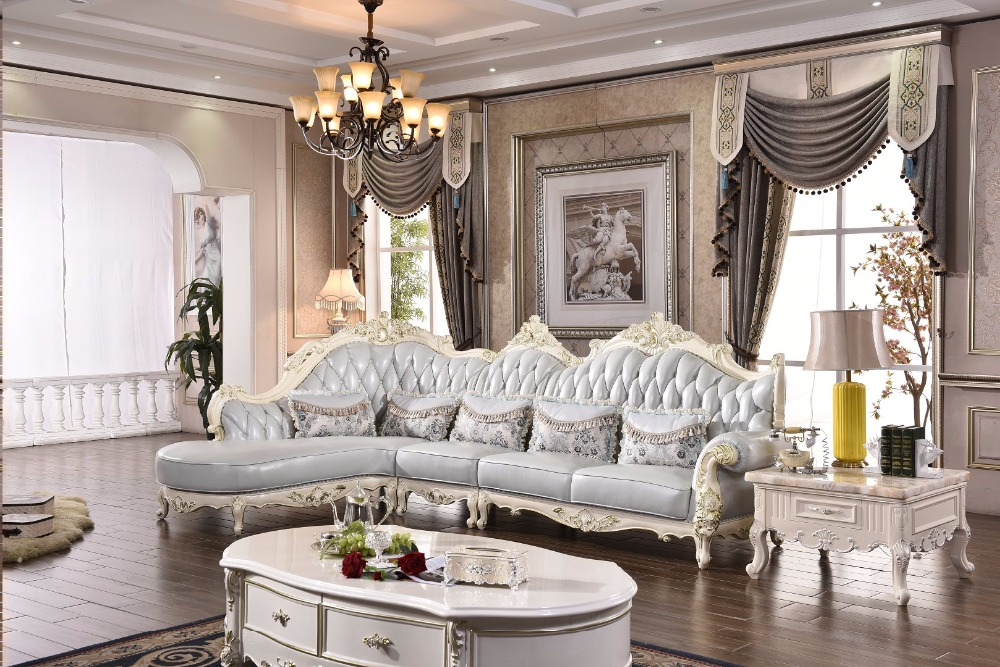Carving Chair: (155, 311, 760, 546)
Carving Table: (748, 456, 977, 607)
